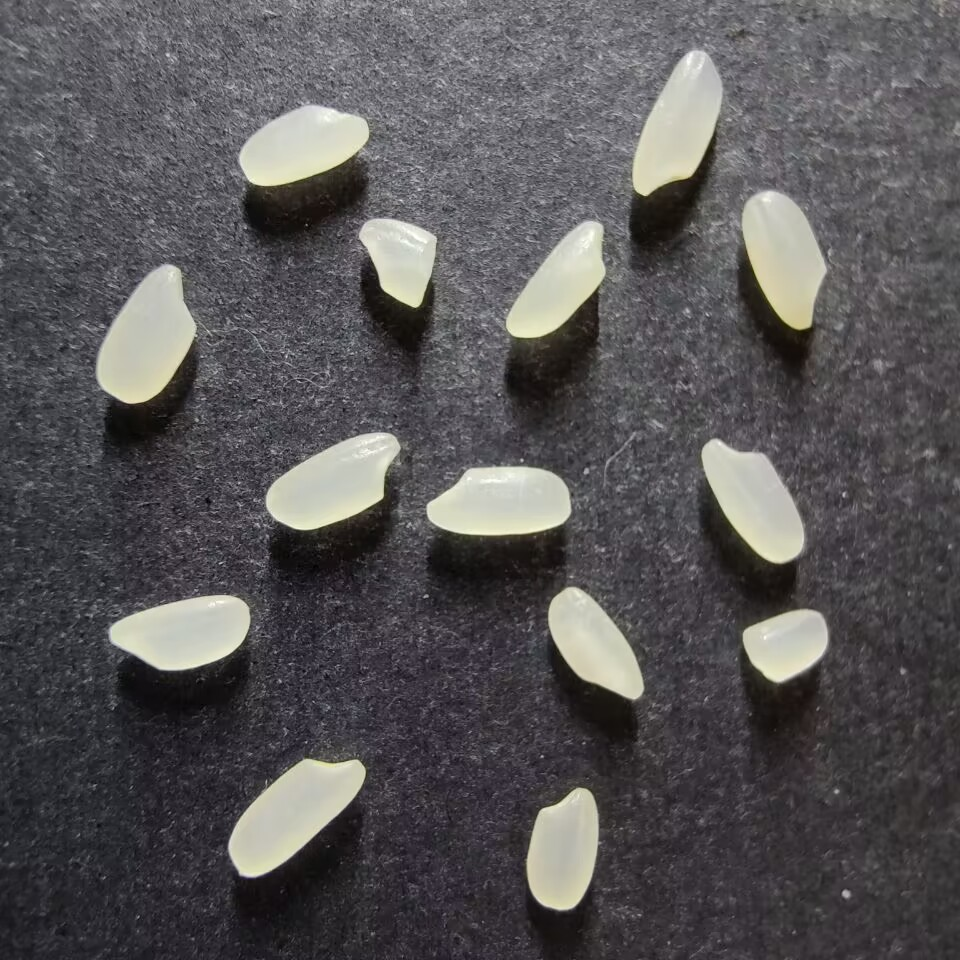broken: (358, 217, 437, 307), (741, 609, 828, 683)
rice: (227, 756, 366, 878), (96, 264, 195, 403), (265, 431, 401, 530), (631, 50, 723, 196), (700, 438, 804, 563), (504, 219, 606, 338), (740, 191, 827, 330), (547, 586, 645, 700), (107, 595, 251, 671), (238, 105, 368, 186), (425, 466, 571, 536), (525, 786, 599, 910)
